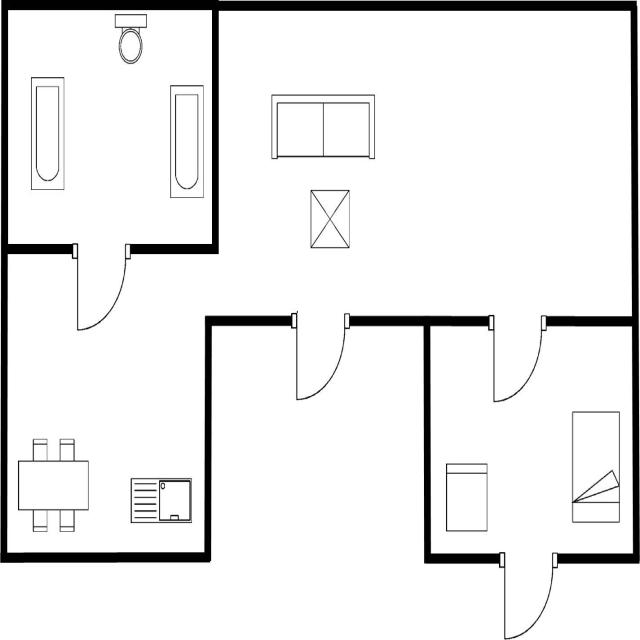bed: (569, 408, 621, 526)
coffee_table: (307, 186, 352, 253)
dining_table: (14, 434, 92, 534)
large_sink: (111, 10, 150, 67)
large_sofa: (268, 91, 378, 164)
sink: (126, 472, 194, 528)
small_sofa: (444, 458, 489, 535)
tub: (26, 72, 66, 196), (167, 82, 205, 202)
